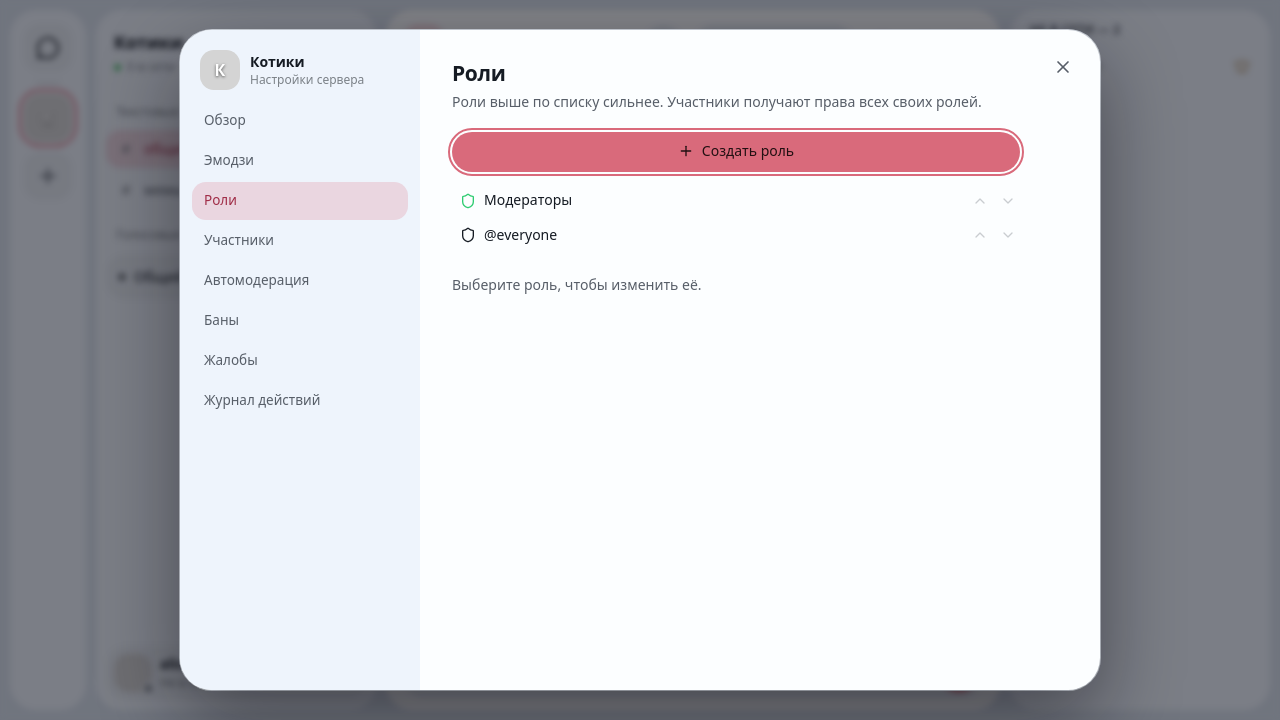
Test: server settings: roles › shows API errors
Click the button "Создать роль" at point(736, 152), box [452, 132, 1020, 172]
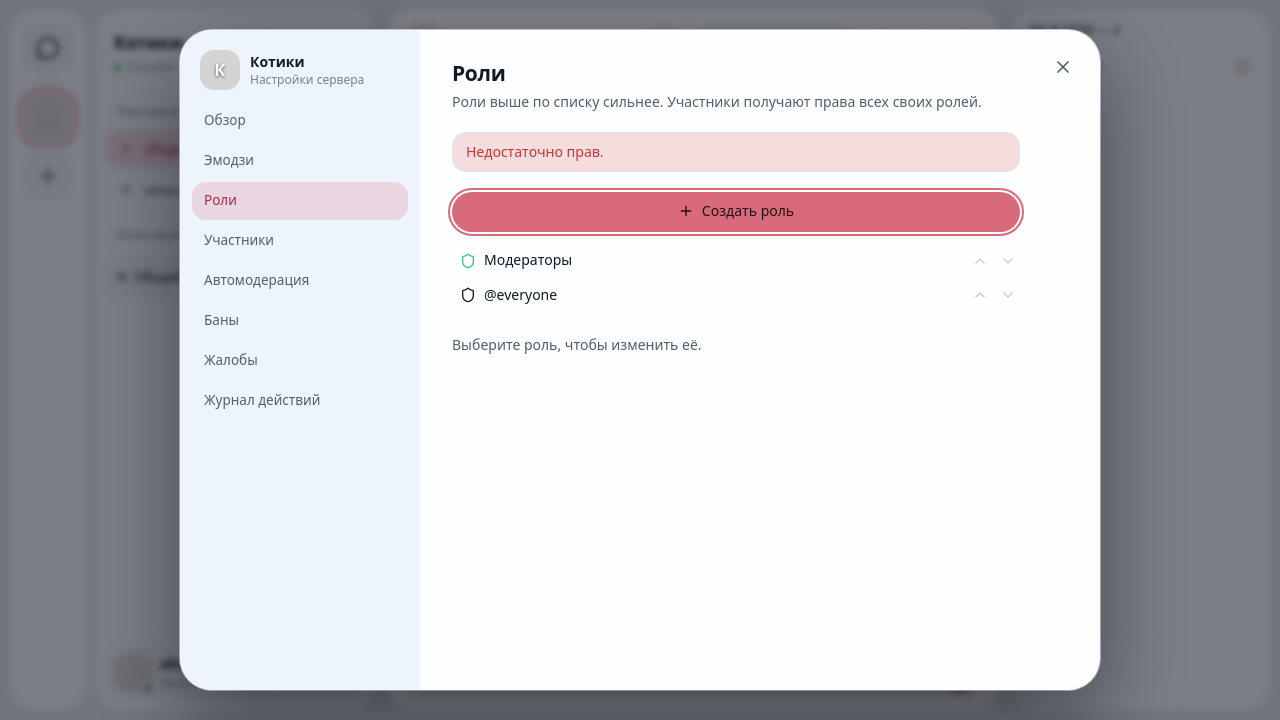
Check: the message "Недостаточно прав." is shown, box [452, 132, 1020, 172]
